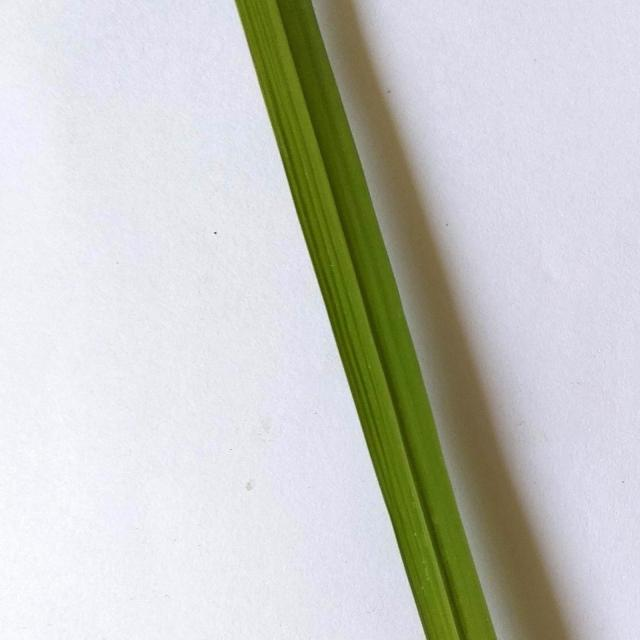healthy: (215, 0, 504, 638)
